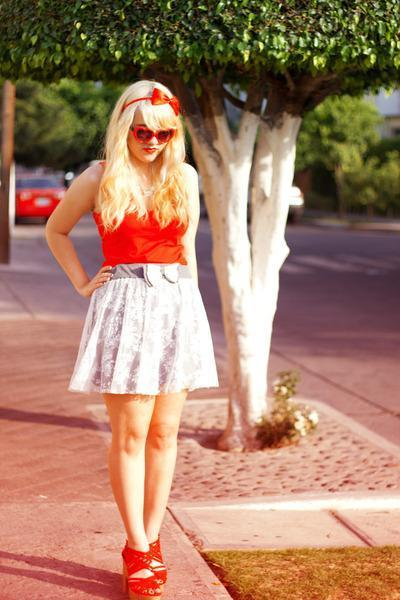shirt: (93, 210, 187, 266)
shoe: (122, 537, 166, 599)
skirt: (69, 263, 218, 401)
sunglass: (127, 114, 174, 155)
